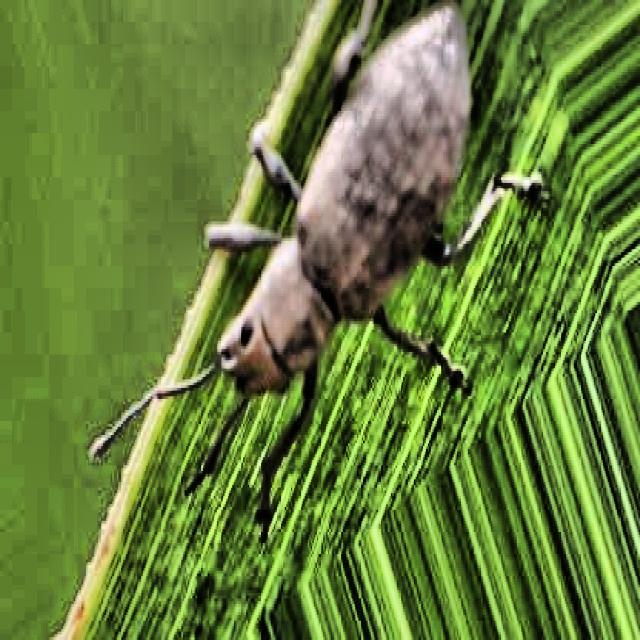Stink bug: (155, 38, 512, 498)
